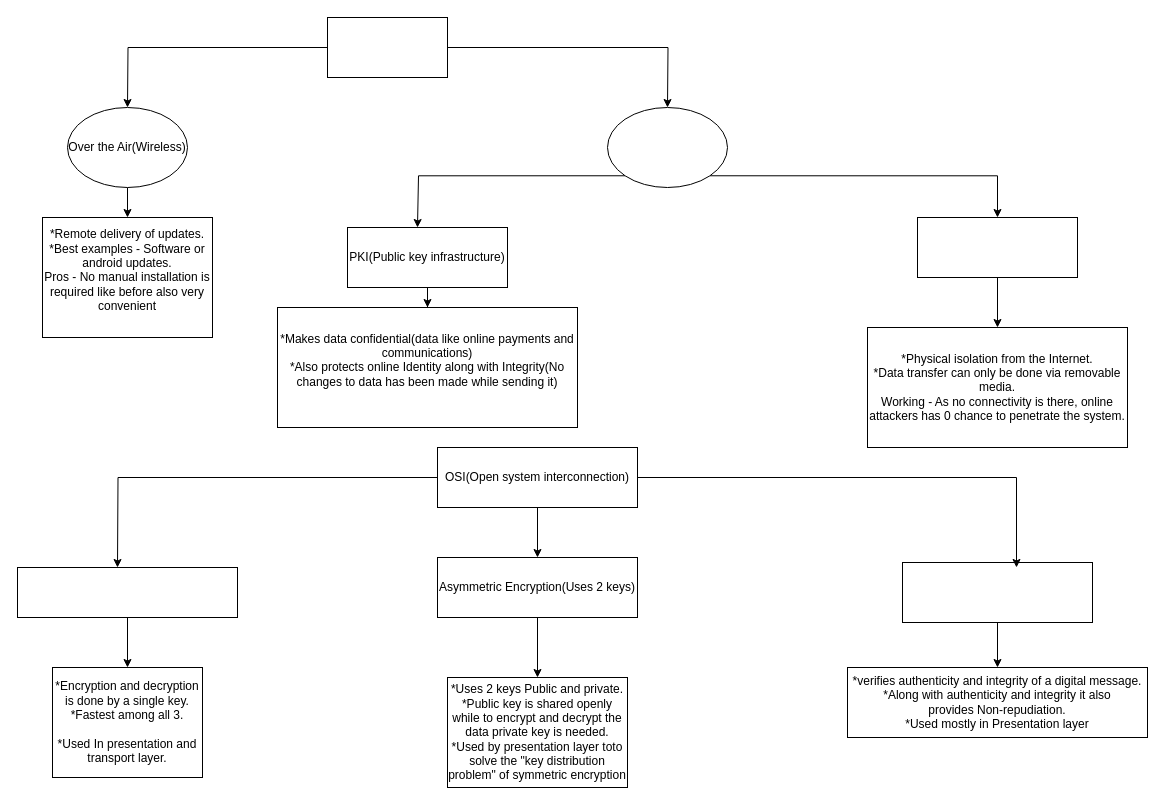
Some shapes in this 1165 by 805 pixel diagram are drawn without their labels. The box of each missing label's shape, as (x1, y1, x2, y2) in pixels:
Air gapped network(Private): (916, 216, 1078, 278)
Digital Signature: (902, 562, 1092, 622)
Fibre: (606, 106, 728, 188)
Privacy: (326, 16, 448, 78)
Symmetric Encryption(Uses single key): (16, 566, 238, 618)
